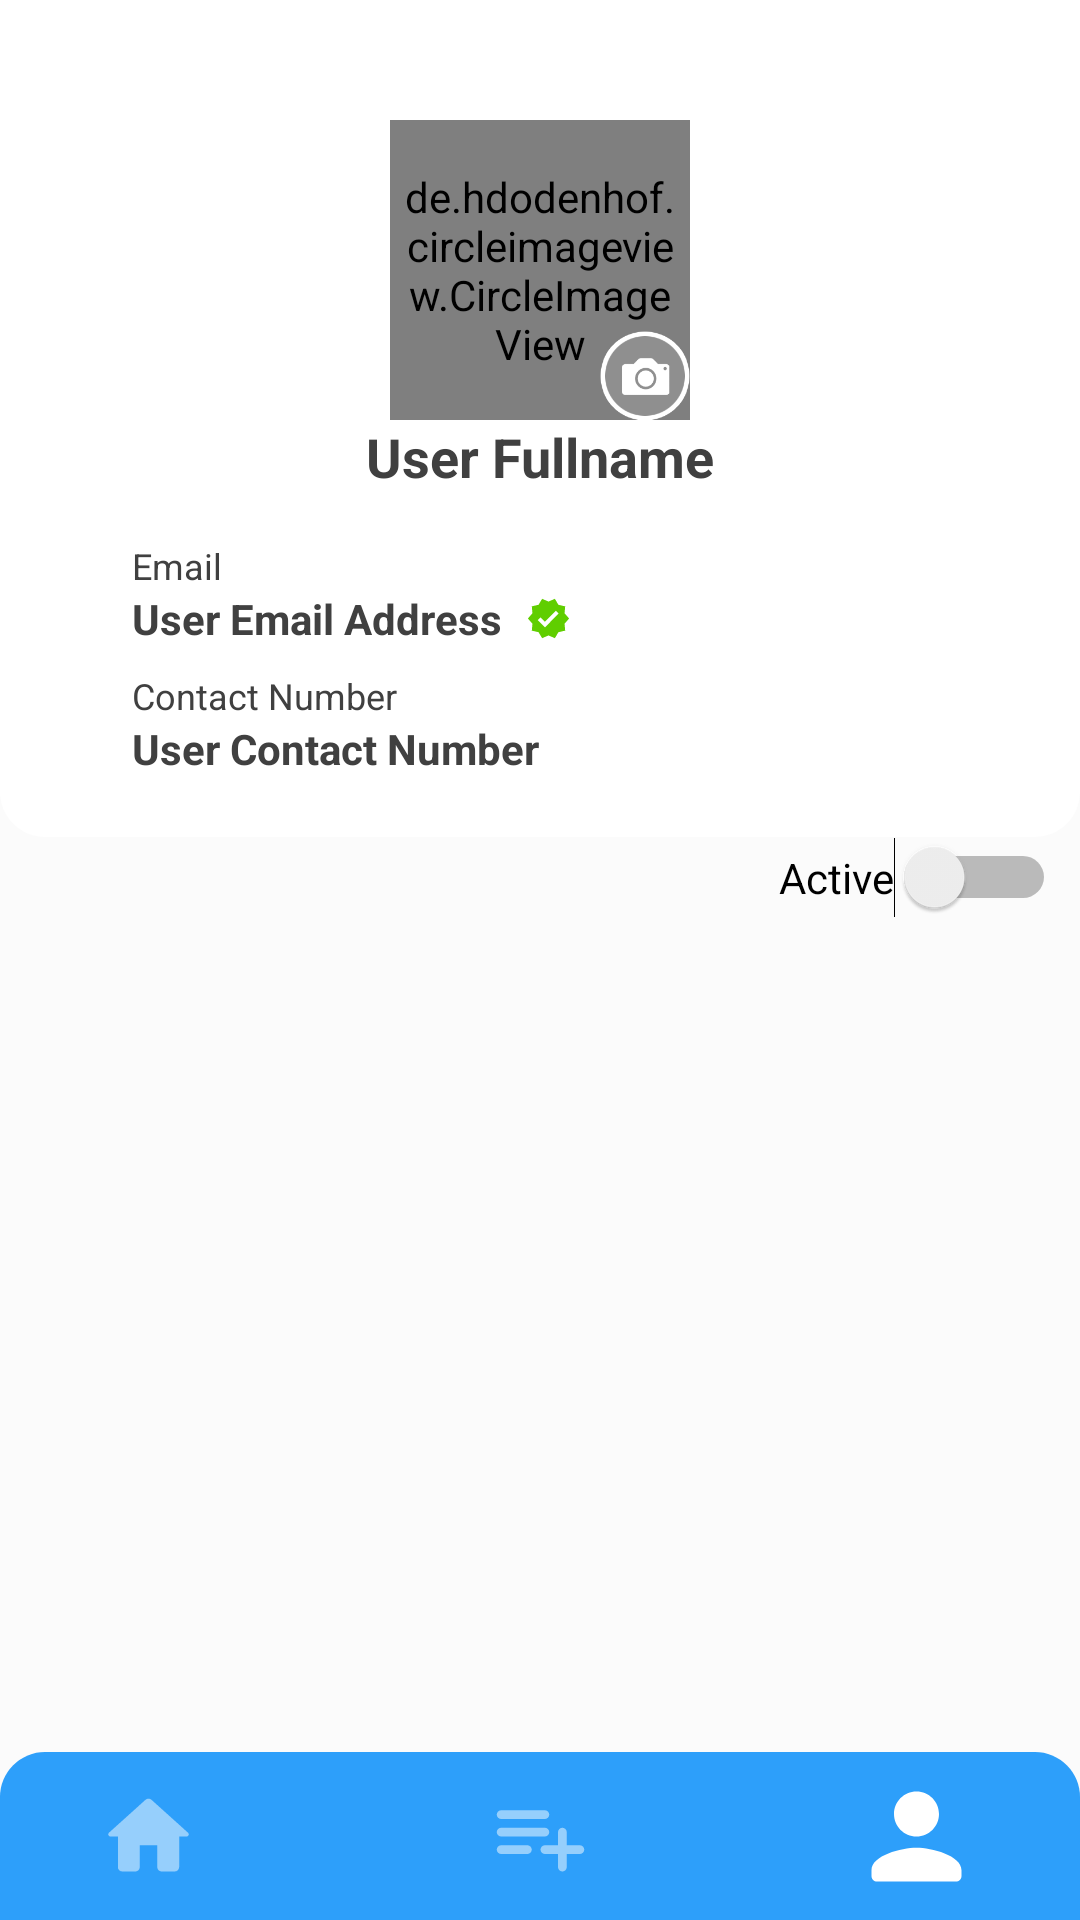

Named icons in this screenshot (1080x1920) and their centers, (x,y):
change profile: (645,375)
home: (148,1835)
person: (916,1836)
playlist add: (540,1841)
verified: (548,618)
